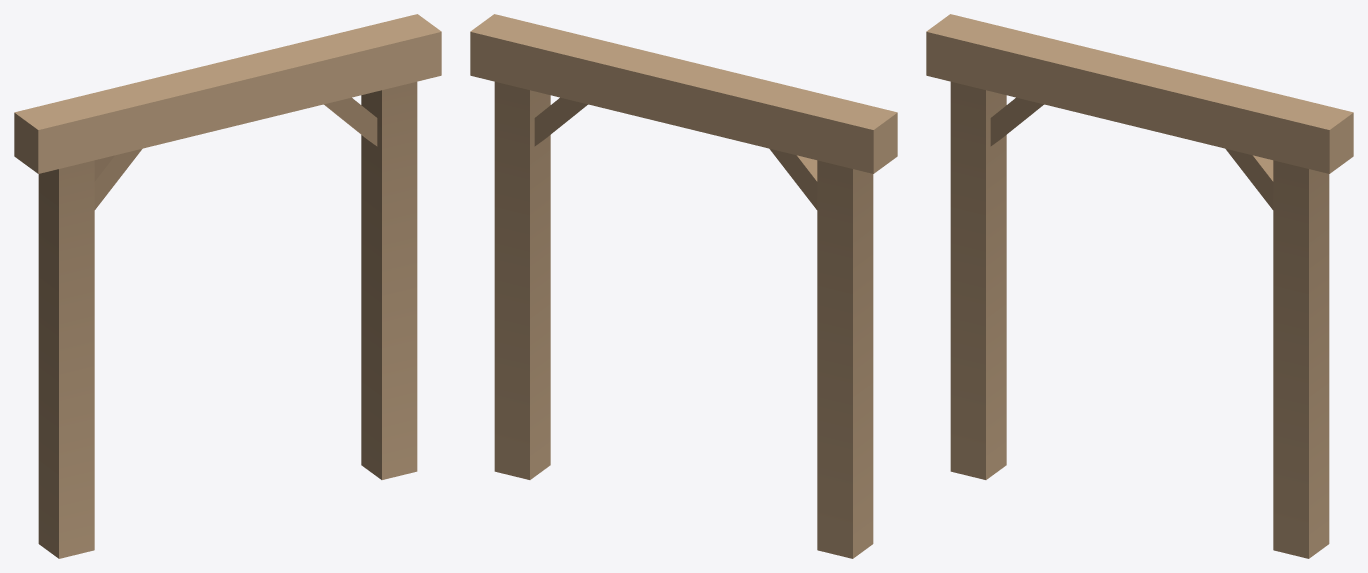
Rendered from VMineBeam.fbx.
The picture shows the model from 3 angles, left to right: view 1: azimuth 30°, elevation 25°; view 2: azimuth 150°, elevation 25°; view 3: azimuth 330°, elevation 25°; orthographic projection.
Visible parts, largest first — view 1: VMineBeam; view 2: VMineBeam; view 3: VMineBeam.
Part boxes in pixels (x1,y1,x2,y2): VMineBeam: (14, 14, 441, 558); VMineBeam: (470, 14, 897, 558); VMineBeam: (926, 14, 1353, 558).
Bounding box in the file's own units: 2.5 × 2.58 × 0.26.
